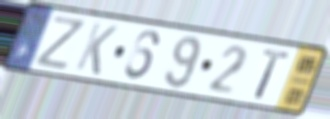2: (205, 44, 249, 97)
6: (123, 29, 162, 83)
9: (162, 33, 203, 90)
K: (72, 20, 120, 78)
T: (252, 47, 292, 102)
Z: (32, 14, 89, 73)
